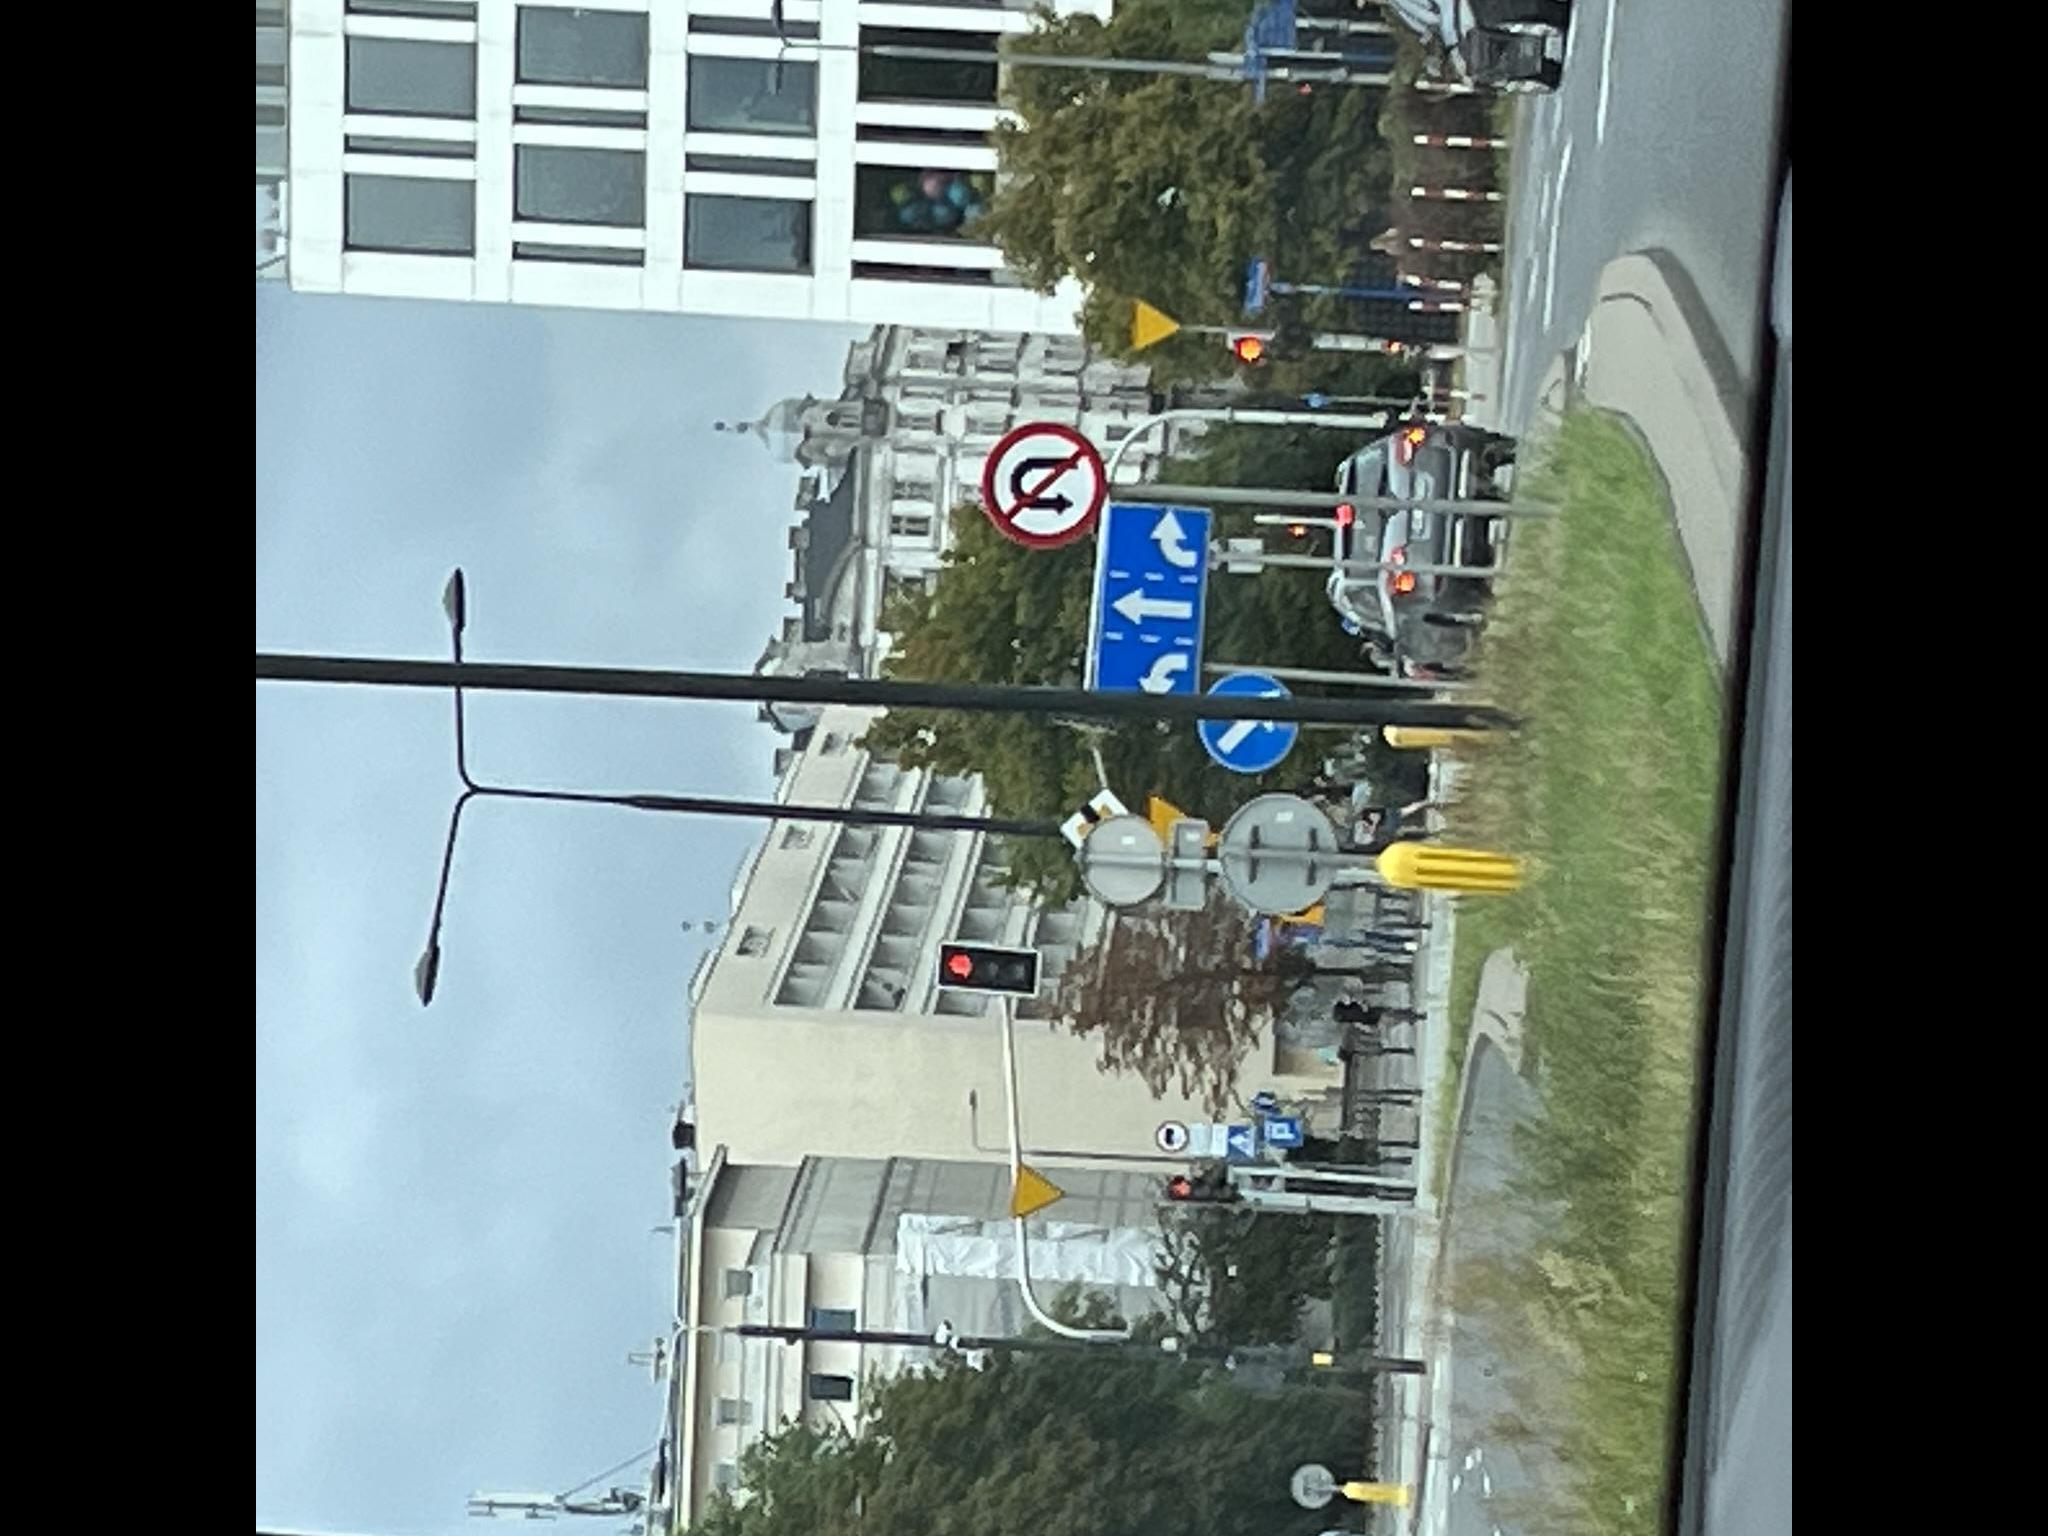information: (1059, 791, 1132, 849), (1264, 1113, 1300, 1146), (1229, 1126, 1259, 1155)
mandatory: (1198, 670, 1300, 768)
other: (1092, 502, 1214, 699)
prohibitory: (977, 418, 1109, 549), (1151, 1118, 1190, 1152)
warning: (1150, 792, 1222, 849), (1008, 1160, 1064, 1220), (1130, 298, 1182, 349)
